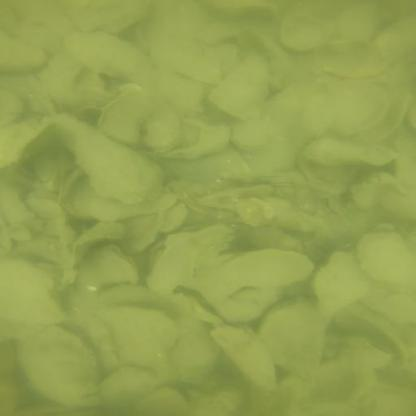Oyster- Indeterminate: (235, 211, 331, 255), (80, 241, 143, 294)
Oyster-Closed: (48, 115, 164, 203), (193, 249, 313, 309), (19, 325, 100, 405), (260, 299, 336, 374), (292, 361, 376, 413), (70, 181, 183, 219), (0, 262, 67, 326), (209, 327, 275, 390), (314, 251, 377, 316), (106, 304, 177, 361), (67, 32, 153, 77), (329, 77, 391, 138), (356, 231, 415, 292), (211, 57, 267, 118), (103, 85, 157, 146), (298, 151, 366, 199), (300, 136, 399, 167), (67, 0, 150, 33), (172, 332, 224, 384), (281, 9, 338, 53), (194, 184, 276, 213), (102, 365, 155, 408), (218, 289, 277, 326), (0, 31, 48, 73), (168, 126, 231, 158), (60, 168, 95, 219), (190, 387, 244, 416), (146, 105, 179, 152), (121, 214, 160, 252), (142, 387, 187, 416), (229, 122, 266, 151)
Oyster-Open: (142, 234, 194, 295), (158, 282, 228, 327), (1, 119, 55, 168)
